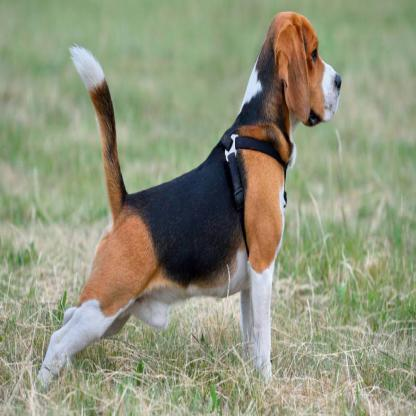Bigl: (32, 4, 344, 396)
